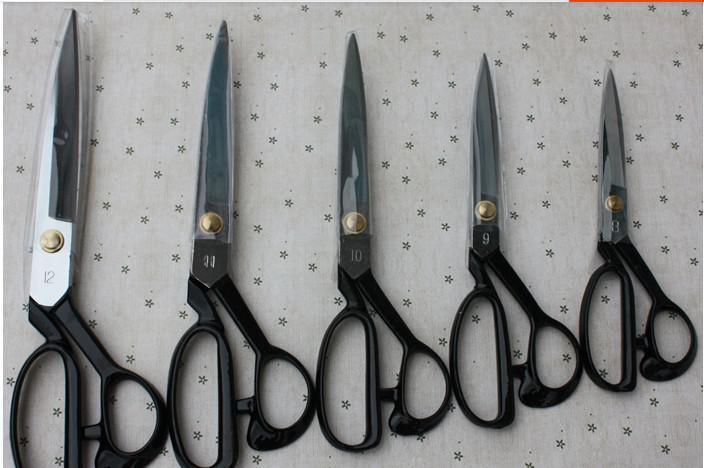scissor: (274, 24, 704, 413), (25, 41, 281, 442)
